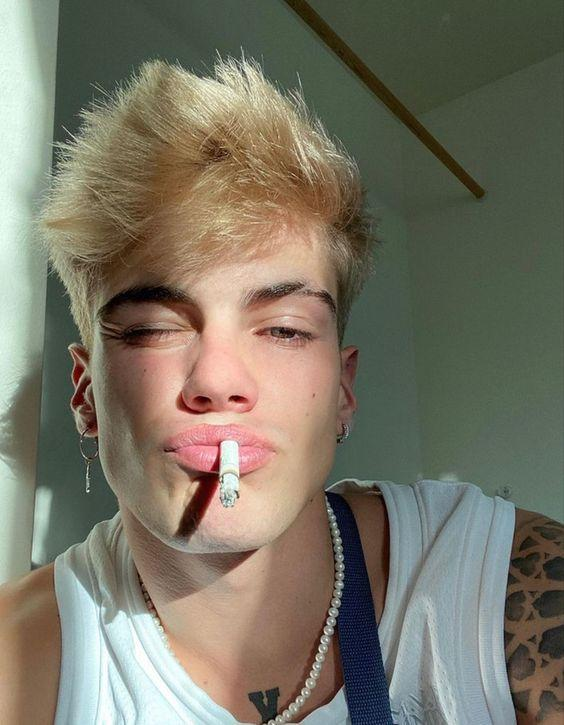cigarette: (220, 440, 240, 508)
